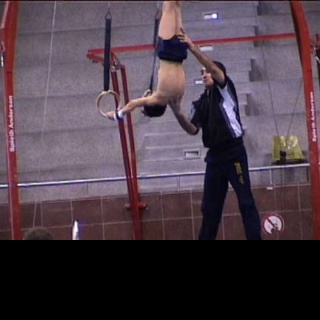without_mask: (200, 61, 225, 86)
